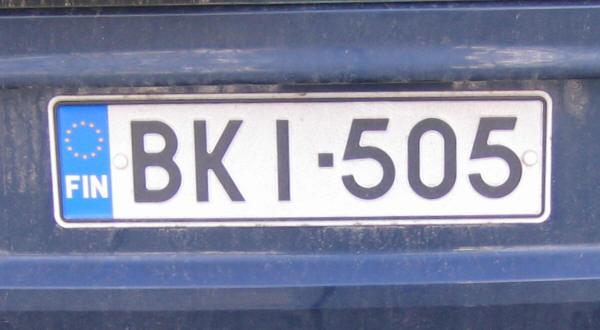license_plate: (50, 96, 549, 224)
